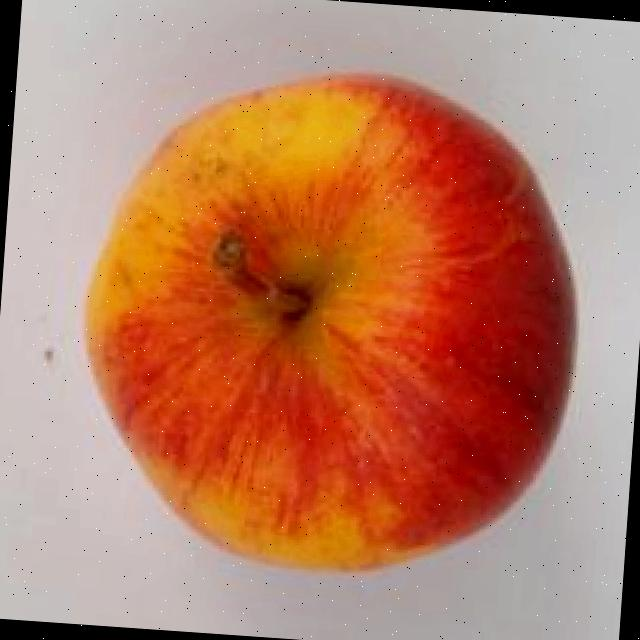apple: (32, 26, 622, 604)
